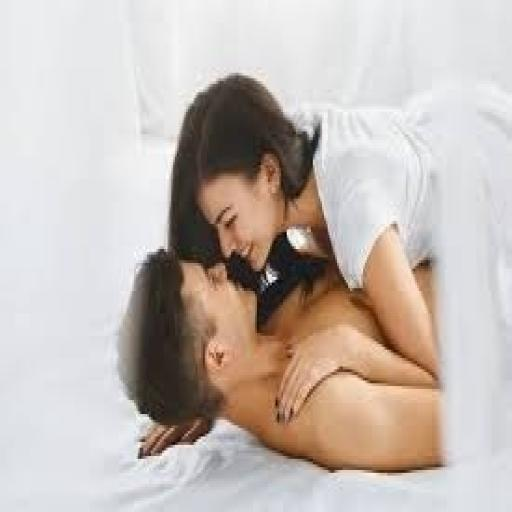hugging: (114, 67, 510, 476), (115, 238, 447, 476)
